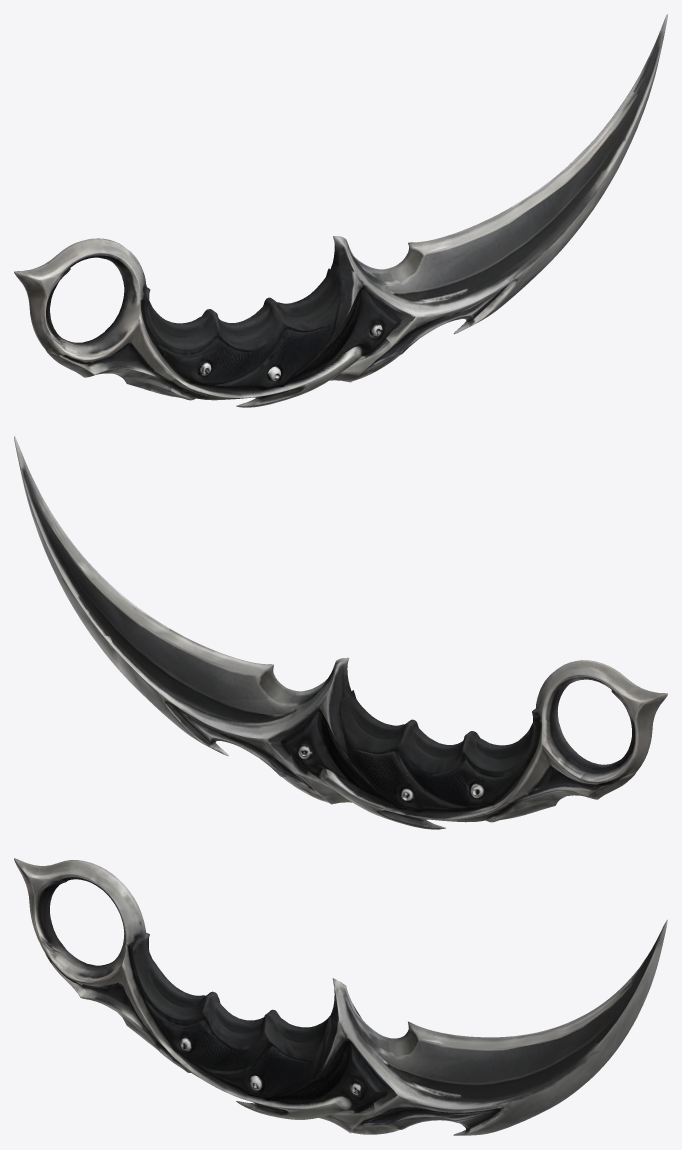
Rendered from knife_karambit.glb.
The picture shows the model from 3 angles, top to bottom: view 1: azimuth 30°, elevation 25°; view 2: azimuth 150°, elevation 25°; view 3: azimuth 330°, elevation 25°; orthographic projection.
Visible parts, largest first — view 1: knife_mesh; view 2: knife_mesh; view 3: knife_mesh.
Boxes of the visible parts, left/top/right/bottom form: knife_mesh: left=14, top=14, right=667, bottom=407; knife_mesh: left=14, top=436, right=667, bottom=829; knife_mesh: left=14, top=858, right=667, bottom=1135.
Size of the model in its own units: 1.11 by 0.4727 by 0.0681.
Materials: 1 (1 with a texture image).
